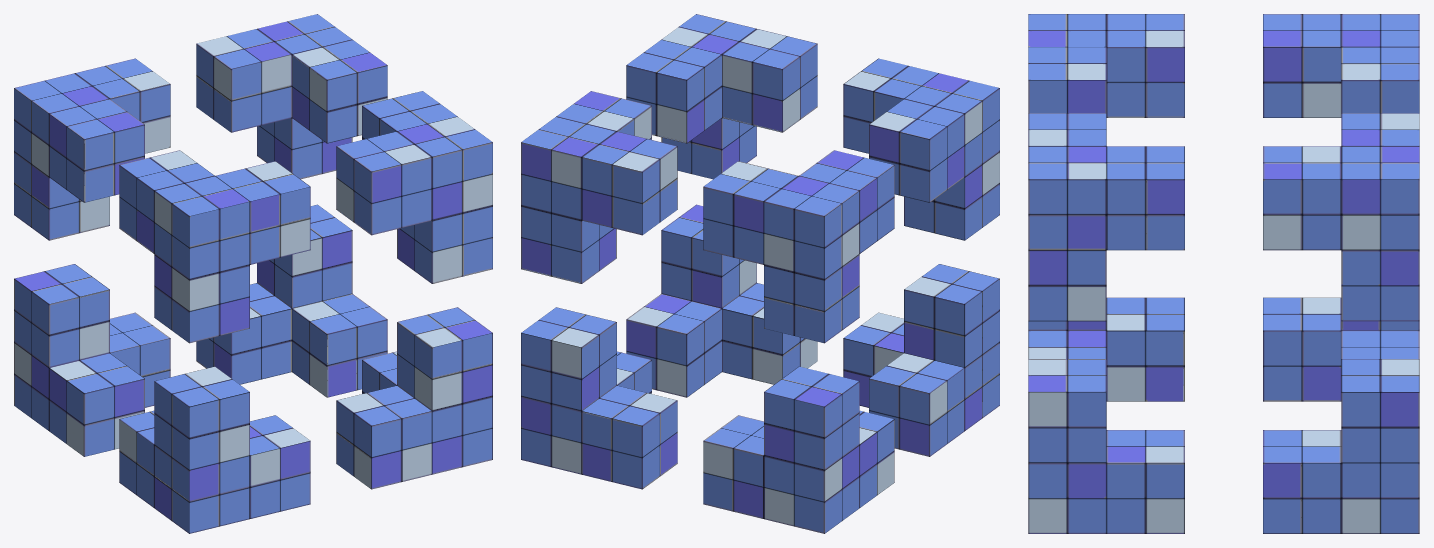
Rendered from enemy_block1.obj.
3 renders of one model, left to right at view 1: azimuth 30°, elevation 25°; view 2: azimuth 150°, elevation 25°; view 3: azimuth 270°, elevation 25°, orthographic. The views are drawn at different scales.
Visible parts, largest first — view 1: 立方体; view 2: 立方体; view 3: 立方体.
Part boxes in pixels (x1=…): 立方体: x1=14, y1=14, x2=492, y2=533; 立方体: x1=521, y1=14, x2=999, y2=533; 立方体: x1=1028, y1=14, x2=1419, y2=533.
Size of the model in its own units: 5 by 5 by 5.
